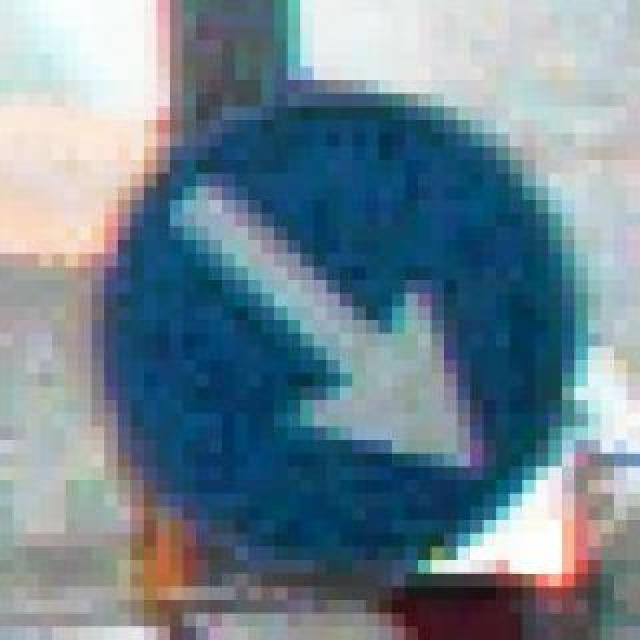keep right: (78, 68, 574, 574)
